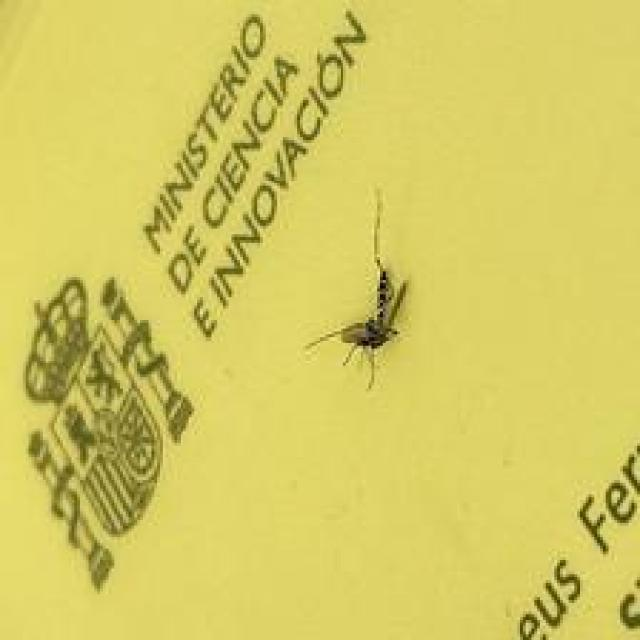Aedes albopictus: (303, 184, 408, 390)
